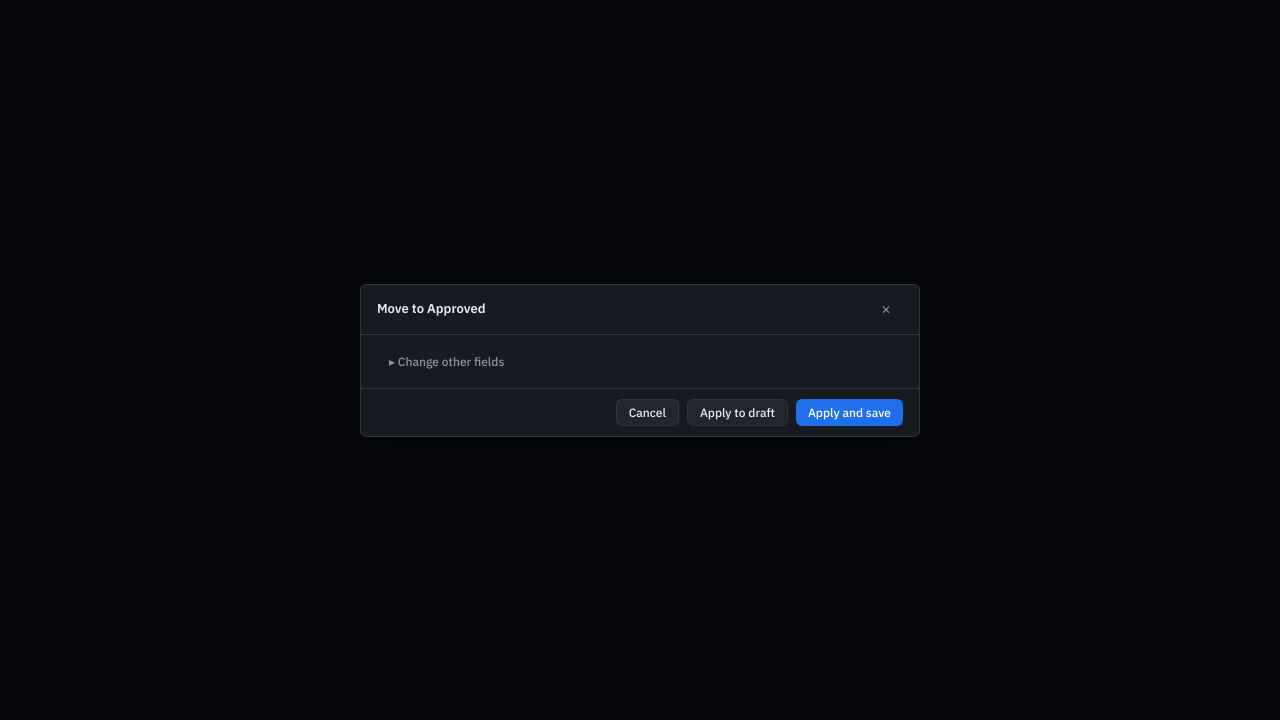
TransitionDialog › shows every other field on request so any can be changed
This screenshot has width=1280, height=720.
Later steps or results of the test are not shown.
Expected: the field labelled "Owner" is not shown
What coordinates should you click on to do the following:
click the button "▸ Change other fields"
I would click on:
 (447, 361)
Its box is [377,348,516,374].
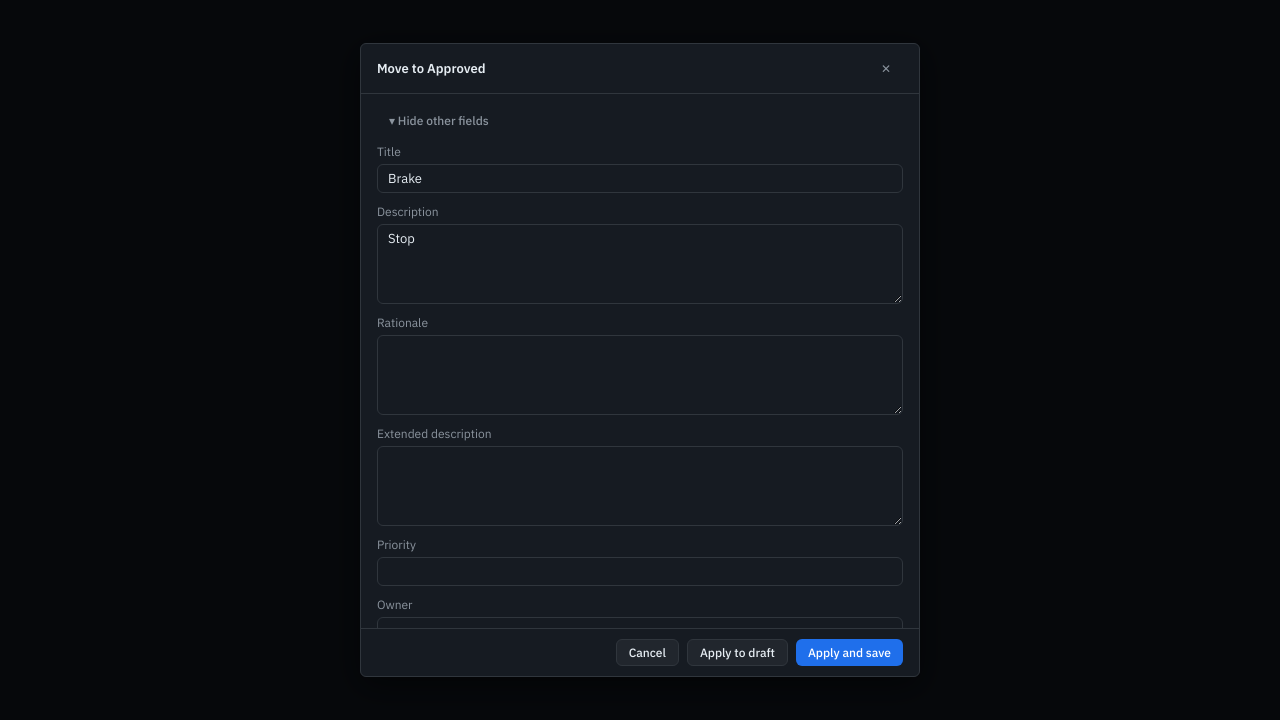
Expected: the field labelled "Title" is shown, [377,164,903,193]
Expected: the text box labelled "Description" is shown, [377,224,903,304]
Expected: the text box labelled "Rationale" is shown, [377,335,903,415]
